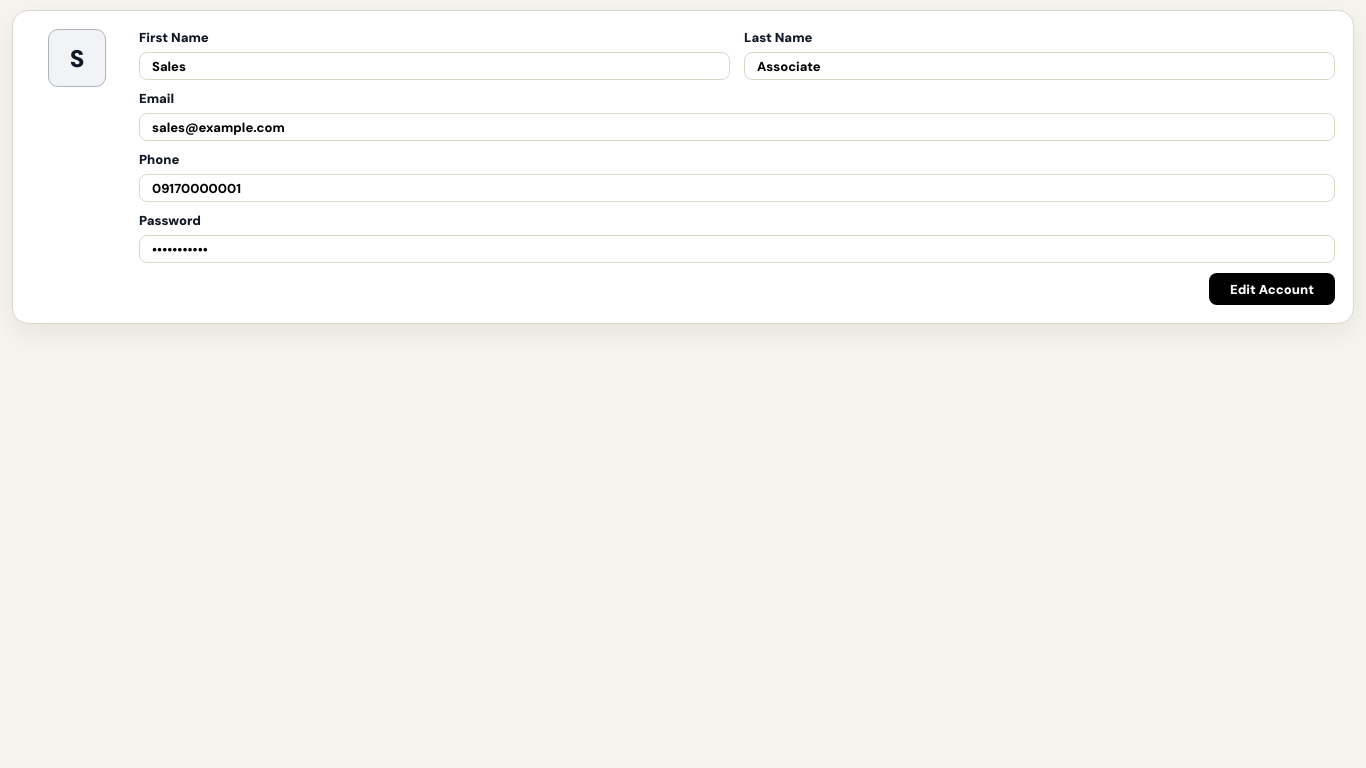
Sales Associate Staff Profile parity › rejects malformed email inline without browser alerts
Click the button "Edit Account" at point(1272, 289), box [1209,273,1335,305]
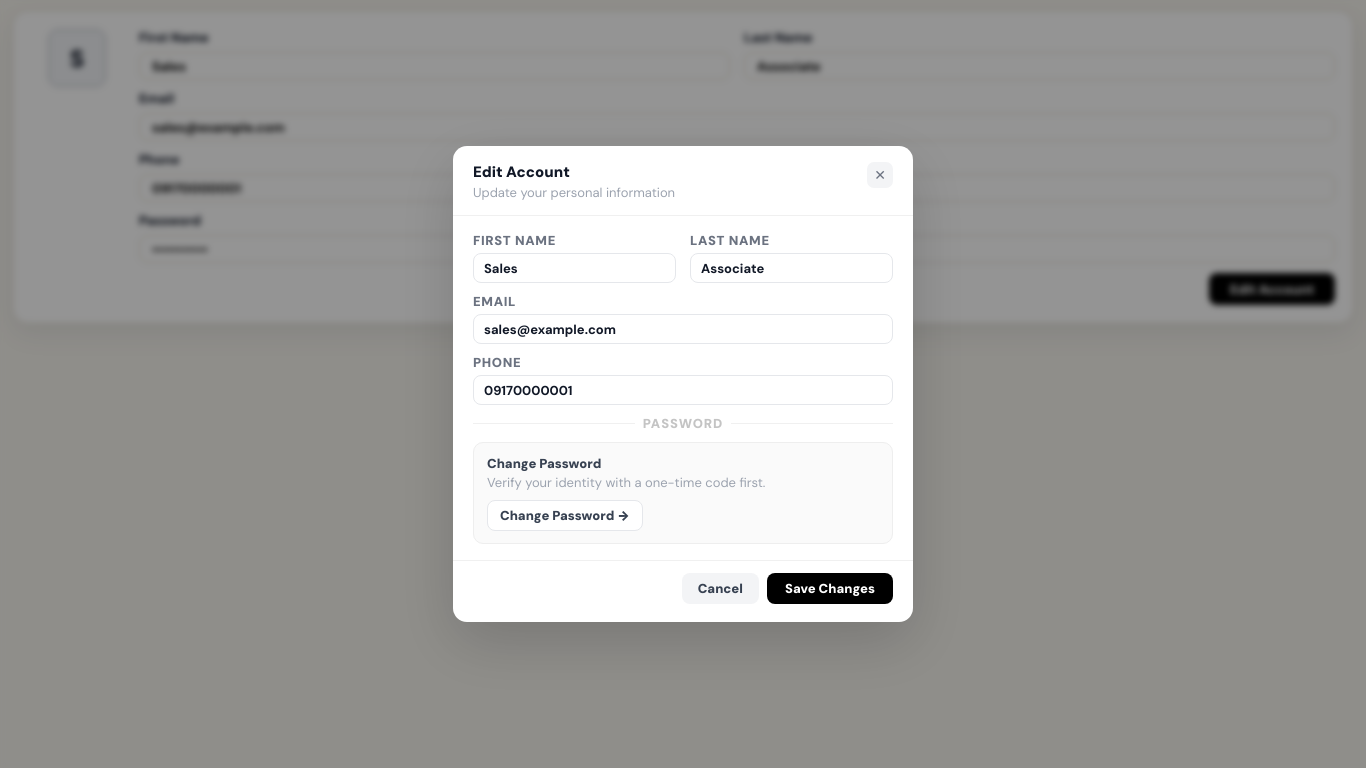
Replace the text in the field named "Edit email" with "sales@" at point(683, 329), box [473,314,893,344]
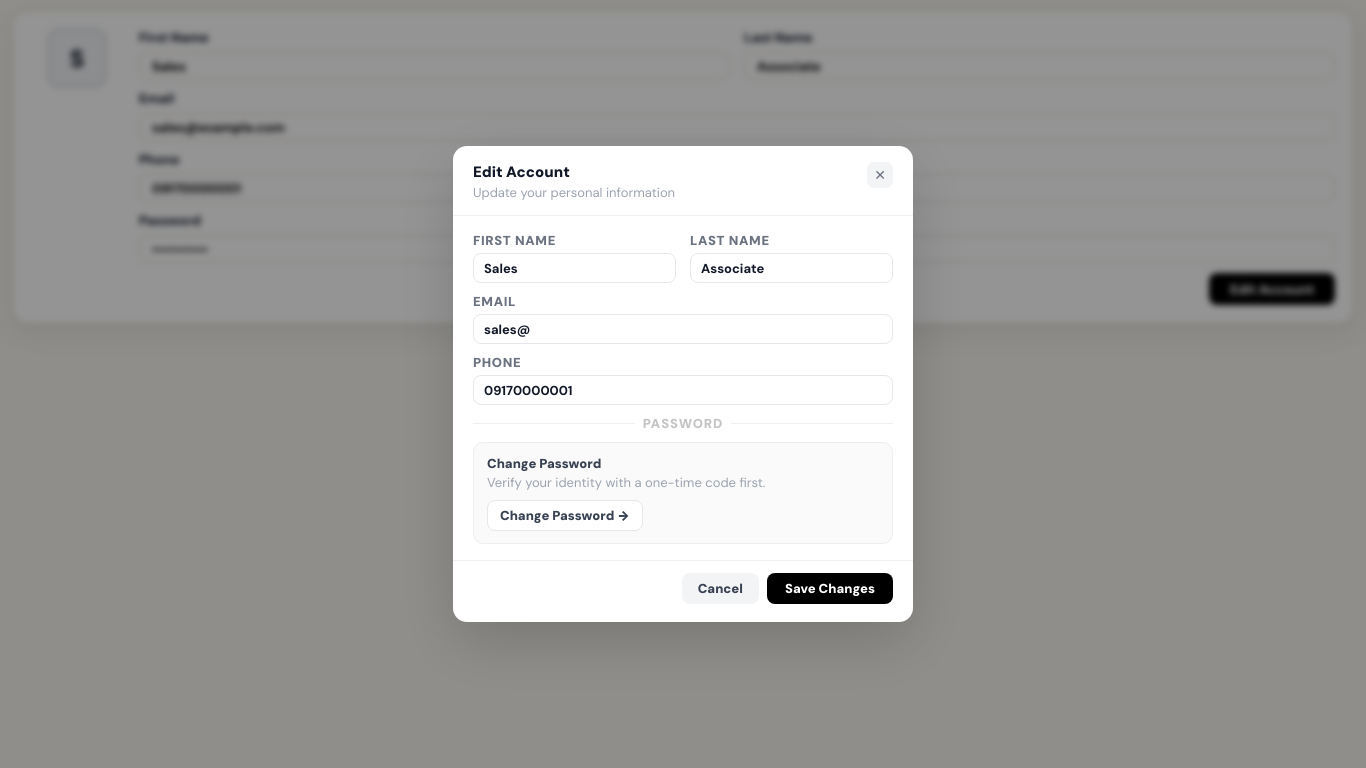
Click the button "Save Changes" at point(830, 588), box [767,573,893,604]
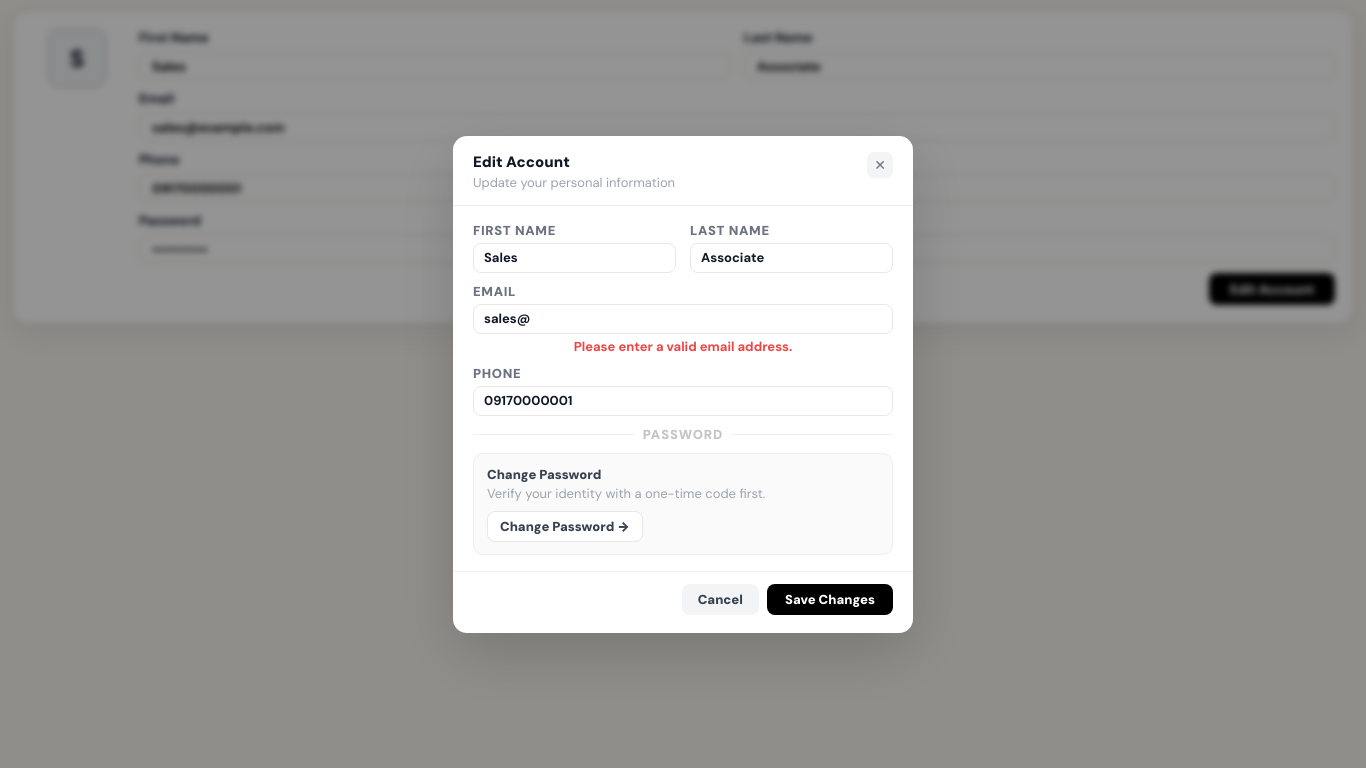
Check: the text "Please enter a valid email address." is shown, box [574,338,792,354]
